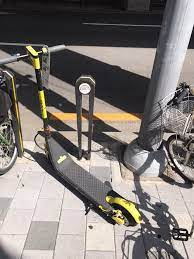kick_board: (4, 45, 142, 225)
kick_handler: (1, 45, 66, 67)
kick_neck: (35, 69, 49, 127)
kick_wheel: (106, 197, 141, 227)
